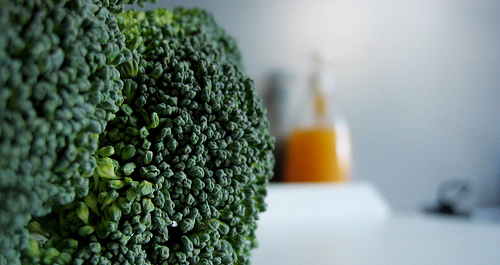broccoli: (0, 0, 275, 261)
